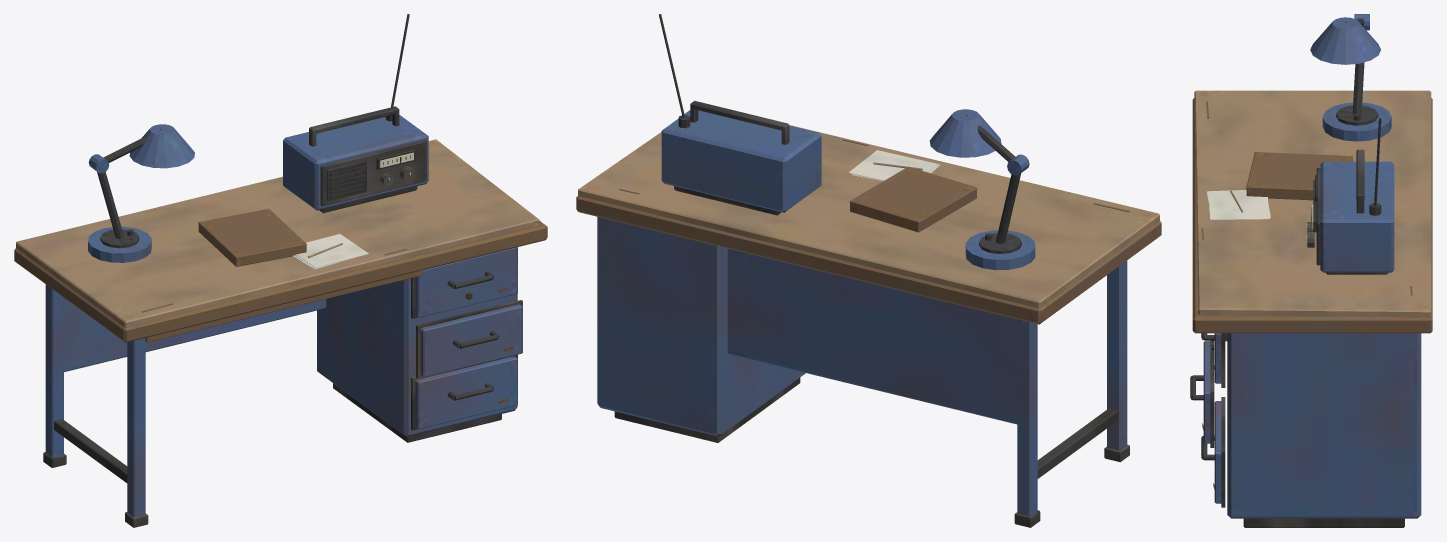
Rendered from O20_police_desk.glb.
3 views of the same model, side by side, from view 1: azimuth 30°, elevation 25°; view 2: azimuth 150°, elevation 25°; view 3: azimuth 270°, elevation 25° (orthographic). The views are drawn at different scales.
Visible parts, largest first — view 1: Dark desktop edge; view 2: Dark desktop edge; view 3: Dark desktop edge.
Part boxes in pixels (bbox=[...]): Dark desktop edge: bbox=[14, 14, 547, 527]; Dark desktop edge: bbox=[576, 14, 1161, 527]; Dark desktop edge: bbox=[1190, 14, 1432, 527].
Bounding box in the file's own units: 1.6 × 1.34 × 0.738.
Materials: 11 (10 with a texture image).
